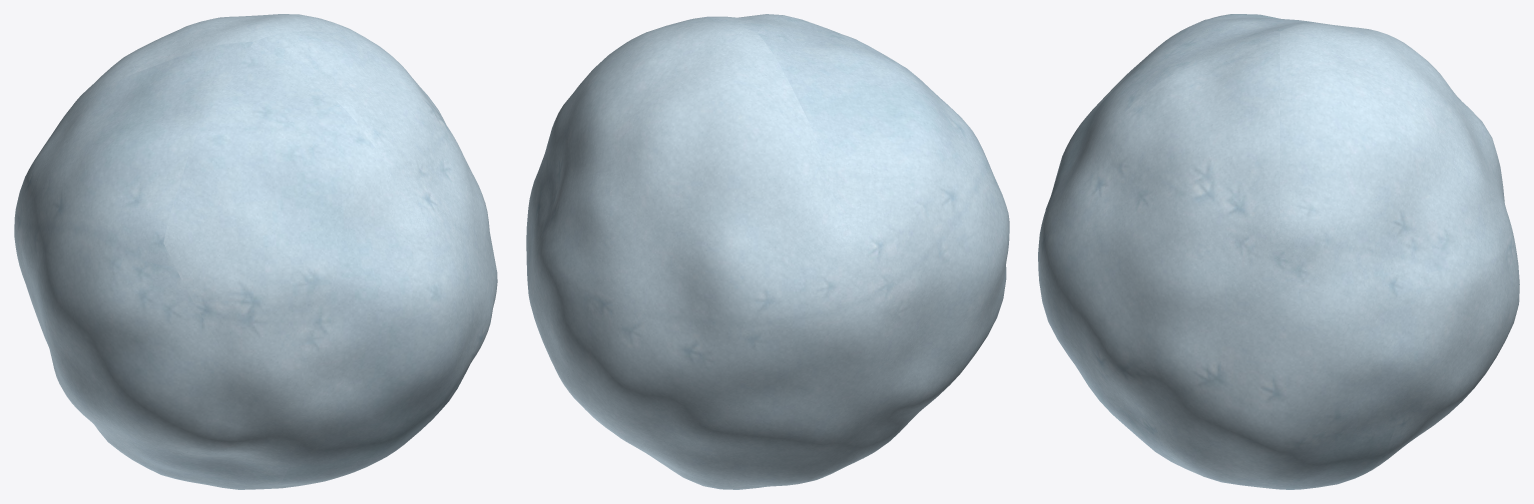
File: snowball.fbx
The picture shows the model from 3 angles, left to right: view 1: azimuth 30°, elevation 25°; view 2: azimuth 150°, elevation 25°; view 3: azimuth 270°, elevation 25°; orthographic projection.
Parts seen in each view (by area): view 1: Snowball; view 2: Snowball; view 3: Snowball.
Boxes of the visible parts, x1,y1,x2,y2 form: Snowball: (14,14,497,489); Snowball: (526,14,1009,489); Snowball: (1038,14,1519,489).
Size of what is drawn, in the model's own units: 10.24 by 10.11 by 10.06.
